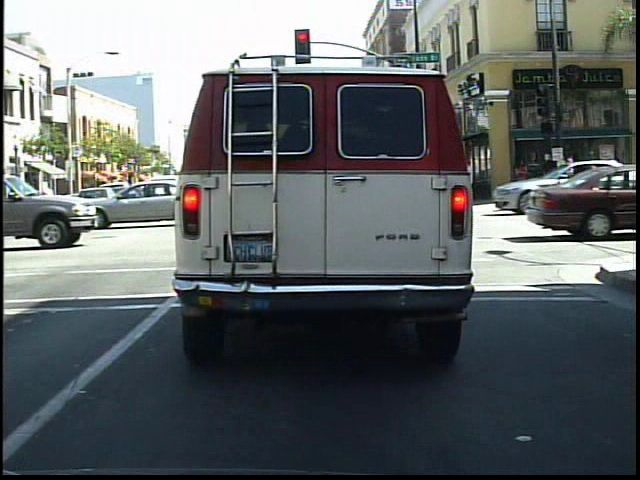person: (539, 151, 562, 208), (510, 156, 533, 202)
